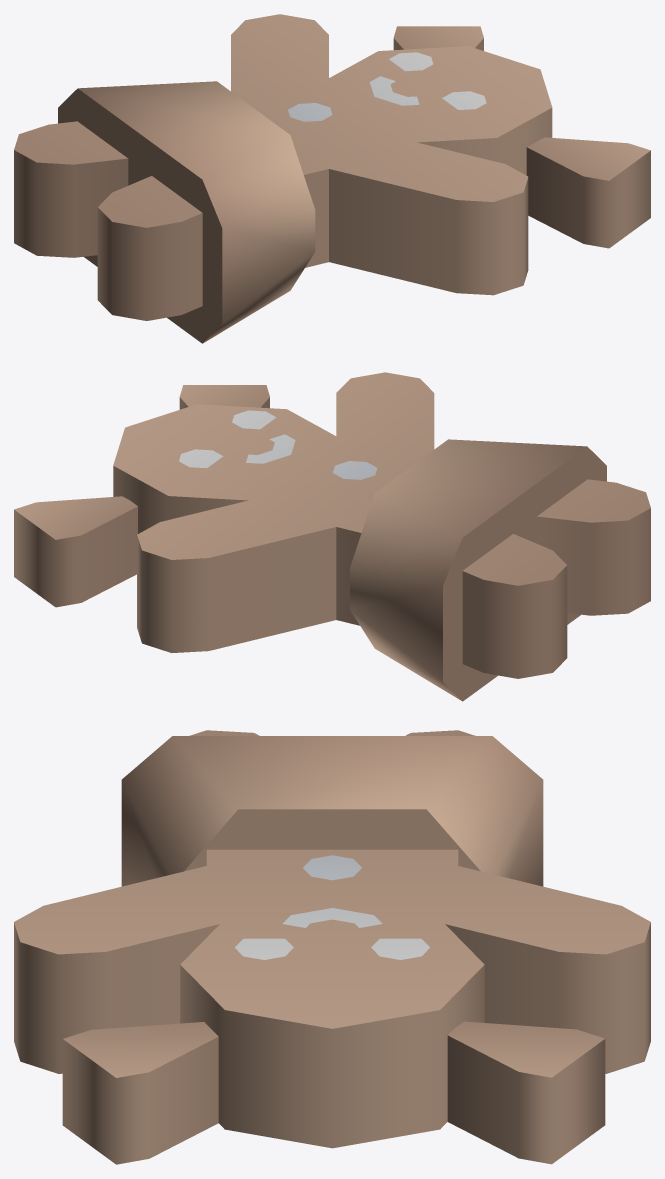
The model's file is gingerbread-woman.glb.
3 views of the same model, one above another, from view 1: azimuth 30°, elevation 25°; view 2: azimuth 150°, elevation 25°; view 3: azimuth 270°, elevation 25° (orthographic). The views are drawn at different scales.
Visible parts, largest first — view 1: gingerbread-woman; view 2: gingerbread-woman; view 3: gingerbread-woman.
Part boxes in pixels (box(x1,y1,x2,y2)): gingerbread-woman: box(14, 14, 650, 343); gingerbread-woman: box(14, 372, 650, 701); gingerbread-woman: box(14, 730, 650, 1164).
Bounding box in the file's own units: 0.2263 × 0.0705 × 0.1934.
